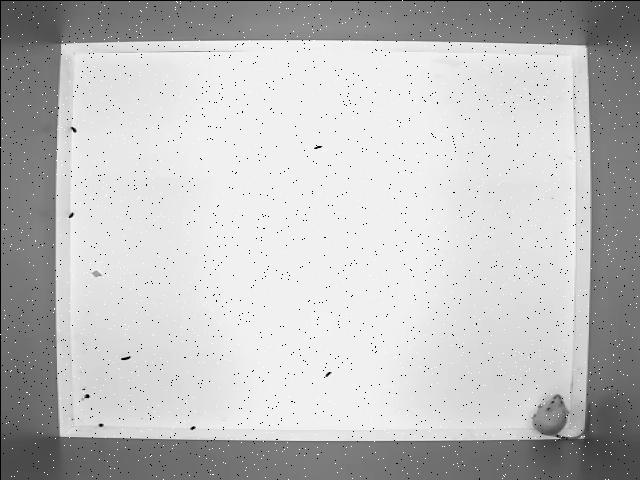Tikus: (528, 392, 592, 442)
